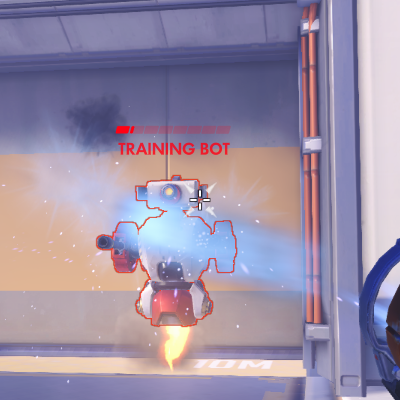hpbar: (115, 125, 231, 135)
